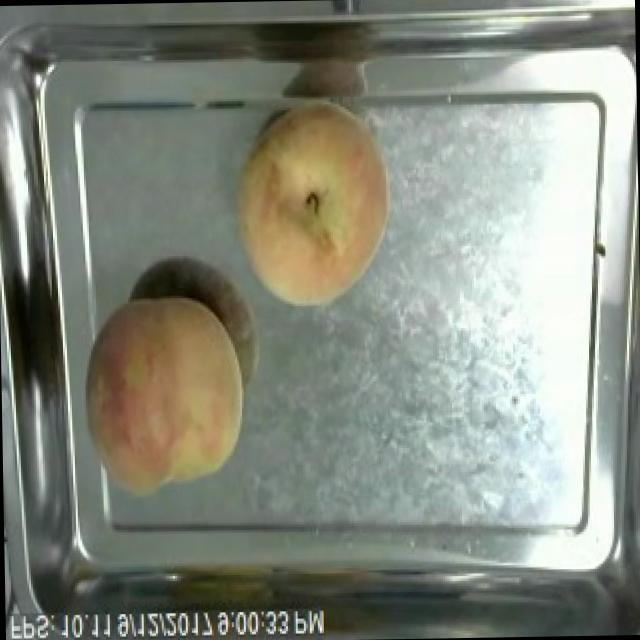Fruit: (72, 286, 256, 510), (224, 100, 402, 314)
